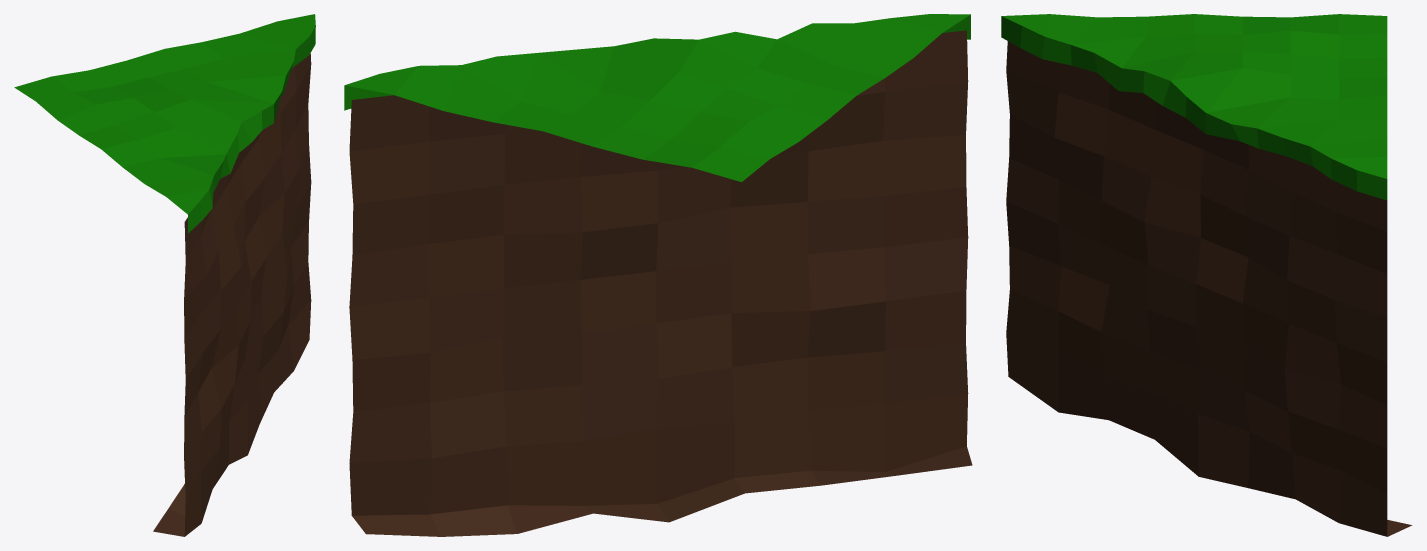
Rendered from CornerEdgeTile.fbx.
The picture shows the model from 3 angles, left to right: view 1: azimuth 30°, elevation 25°; view 2: azimuth 150°, elevation 25°; view 3: azimuth 270°, elevation 25°; orthographic projection. The views are drawn at different scales.
Parts seen in each view (by area): view 1: Cube; view 2: Cube; view 3: Cube.
Part boxes in pixels (bbox=[...]): Cube: bbox=[14, 14, 315, 536]; Cube: bbox=[344, 14, 972, 536]; Cube: bbox=[1001, 14, 1412, 536].
Size of the model in its own units: 212 by 222 by 213.
